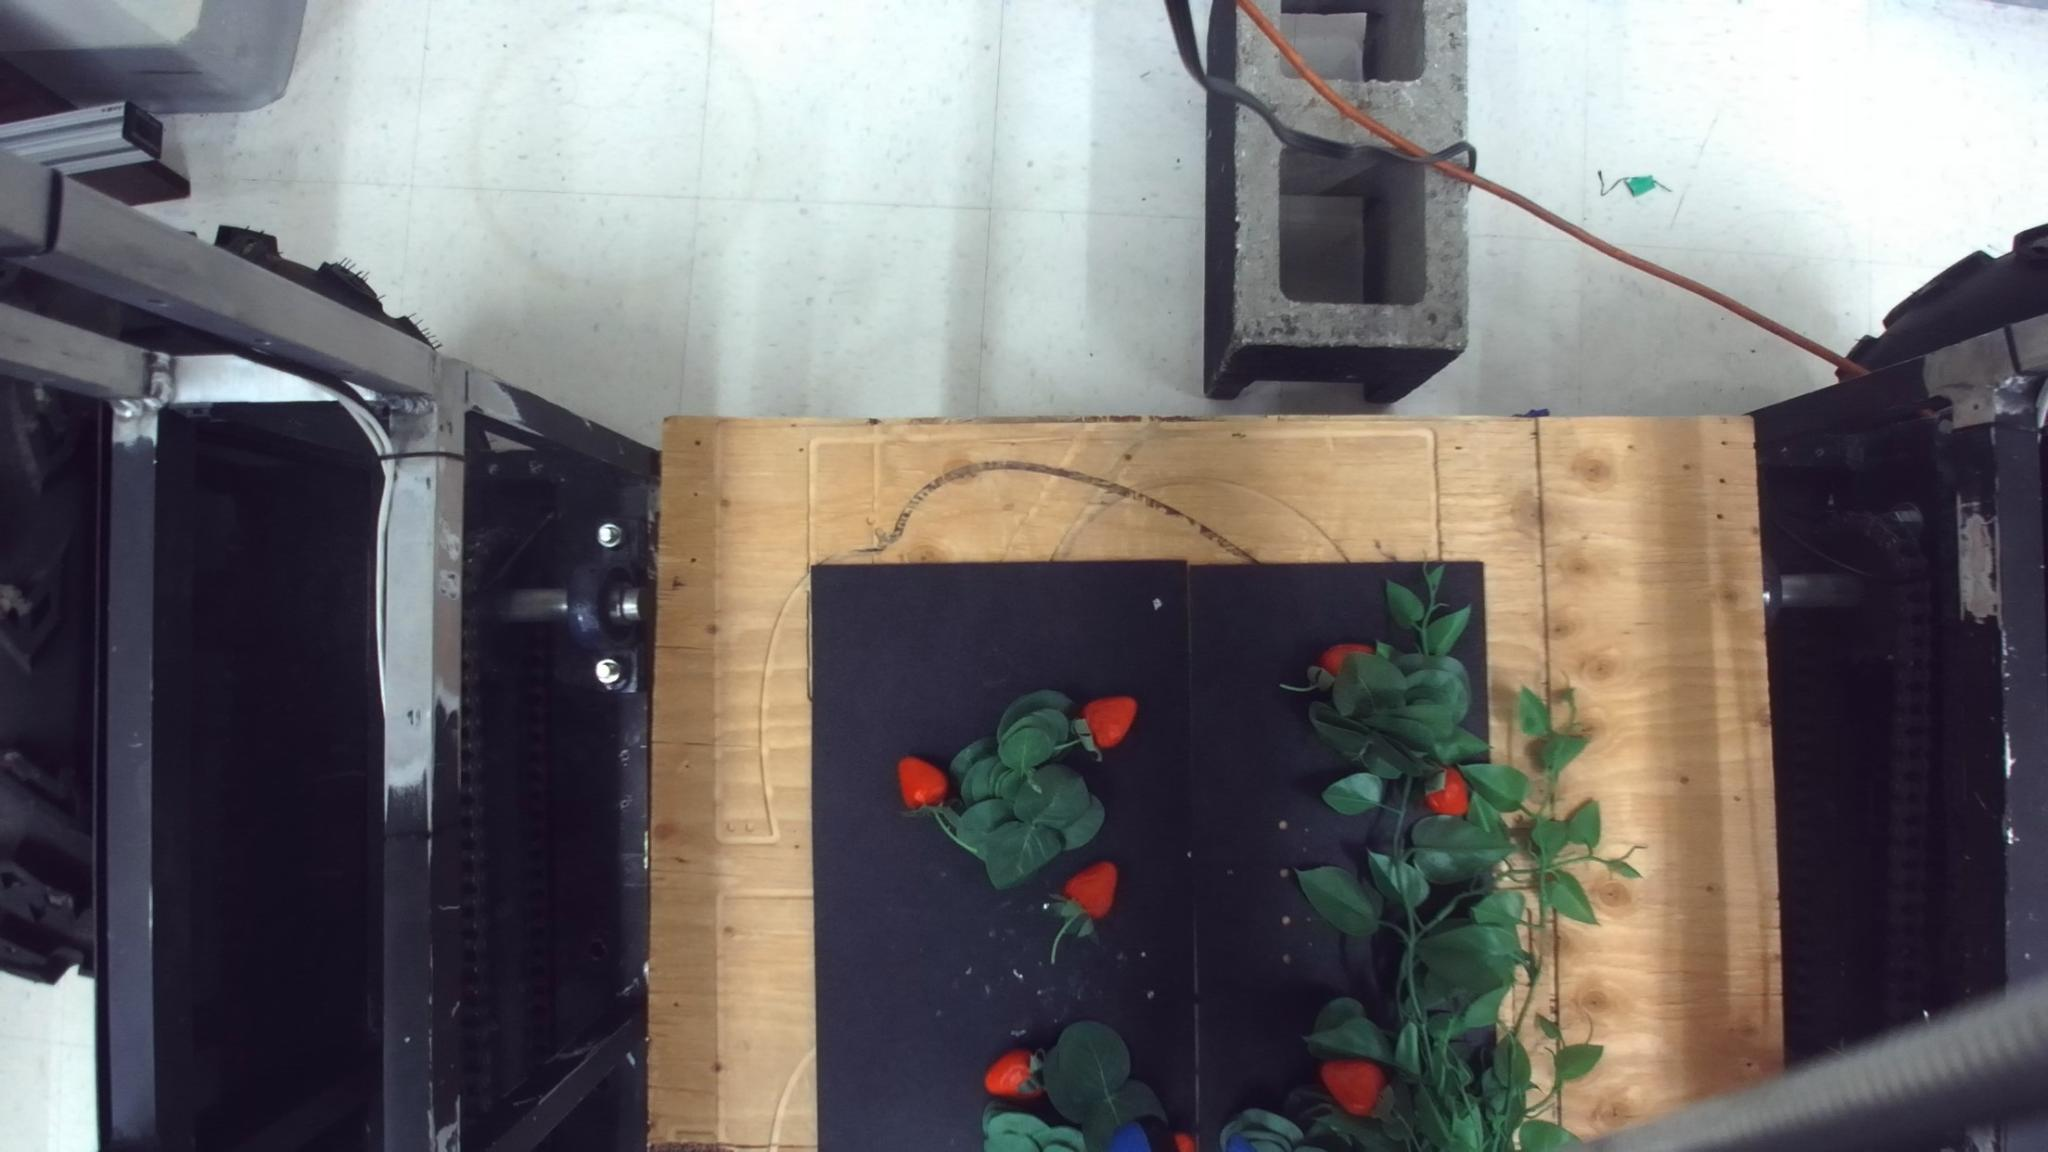mature: (1318, 1058, 1385, 1118), (982, 1048, 1045, 1100), (1062, 859, 1117, 919), (1082, 695, 1137, 748), (896, 755, 948, 810), (1422, 765, 1470, 817), (1318, 640, 1374, 678)
